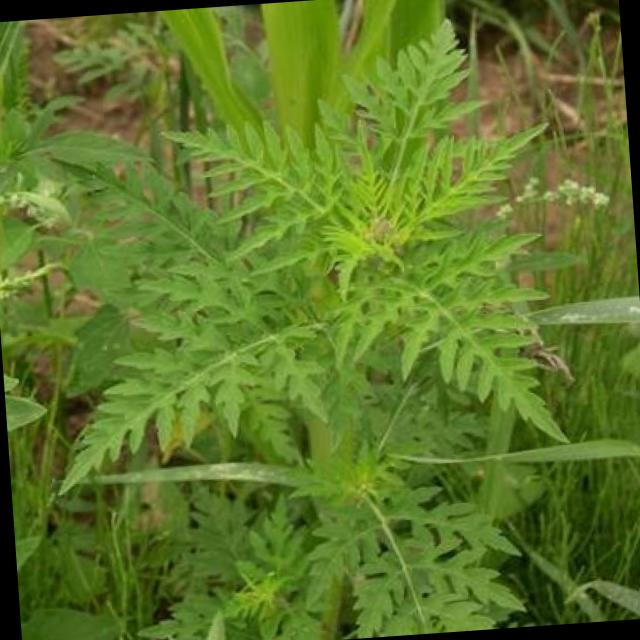ambrosia: (118, 55, 558, 462)
